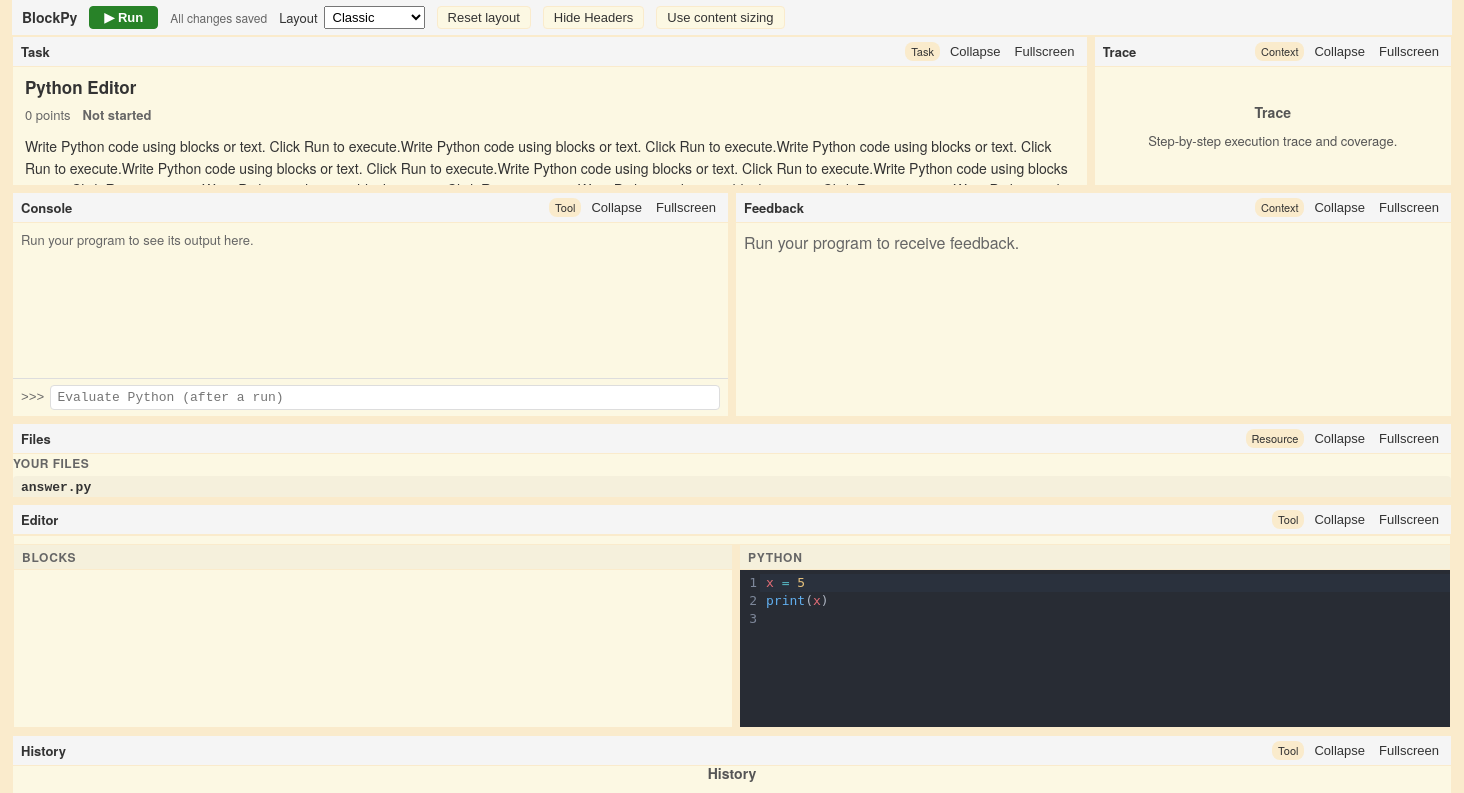
Test case: WorkspaceShell › resets the layout to defaults
Select "Quiz" in the dropdown labelled "Layout" at (374, 18), box x1=324 y1=6 x2=425 y2=29
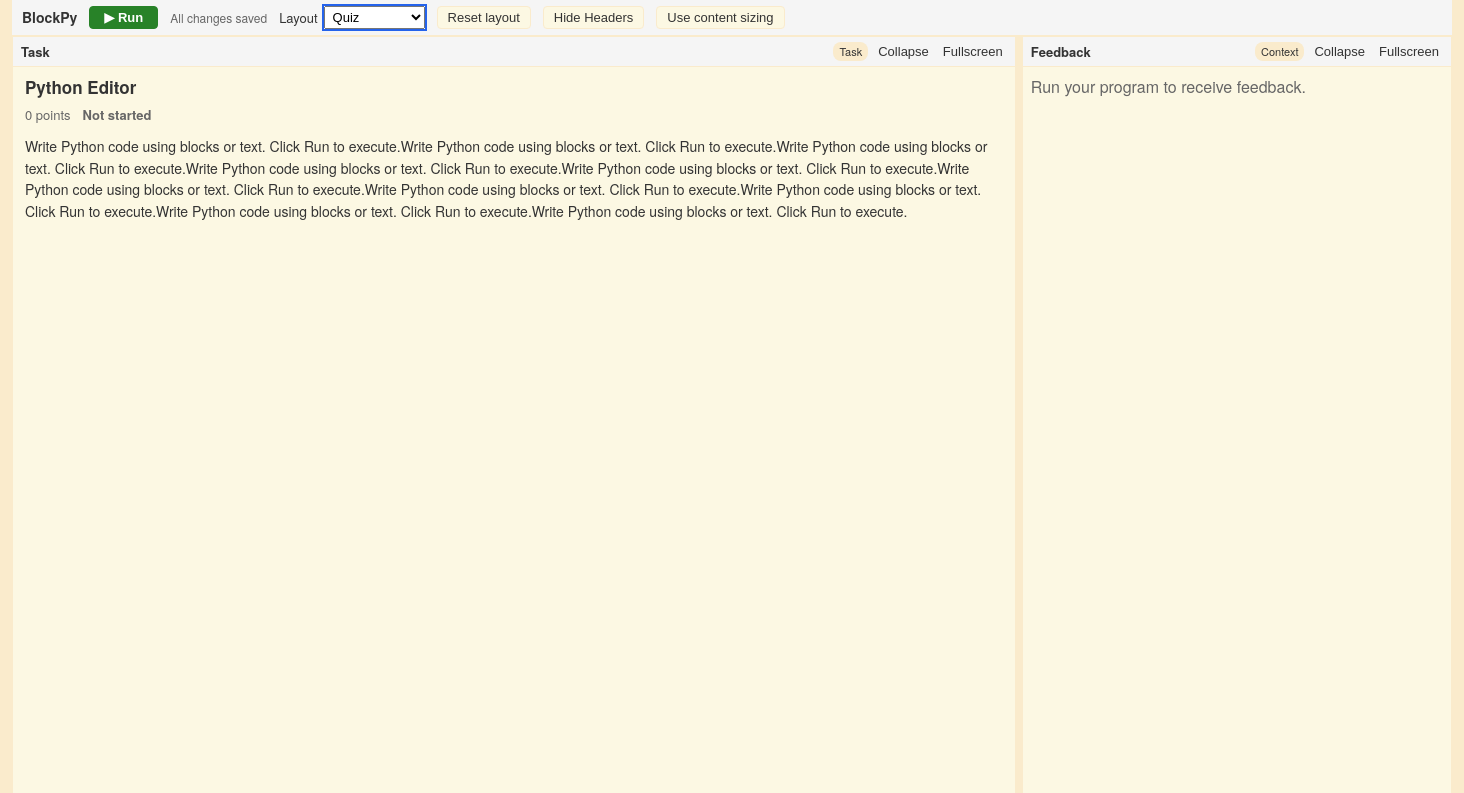
Click the button "Reset layout".
click(484, 18)  # box x1=437 y1=6 x2=531 y2=29
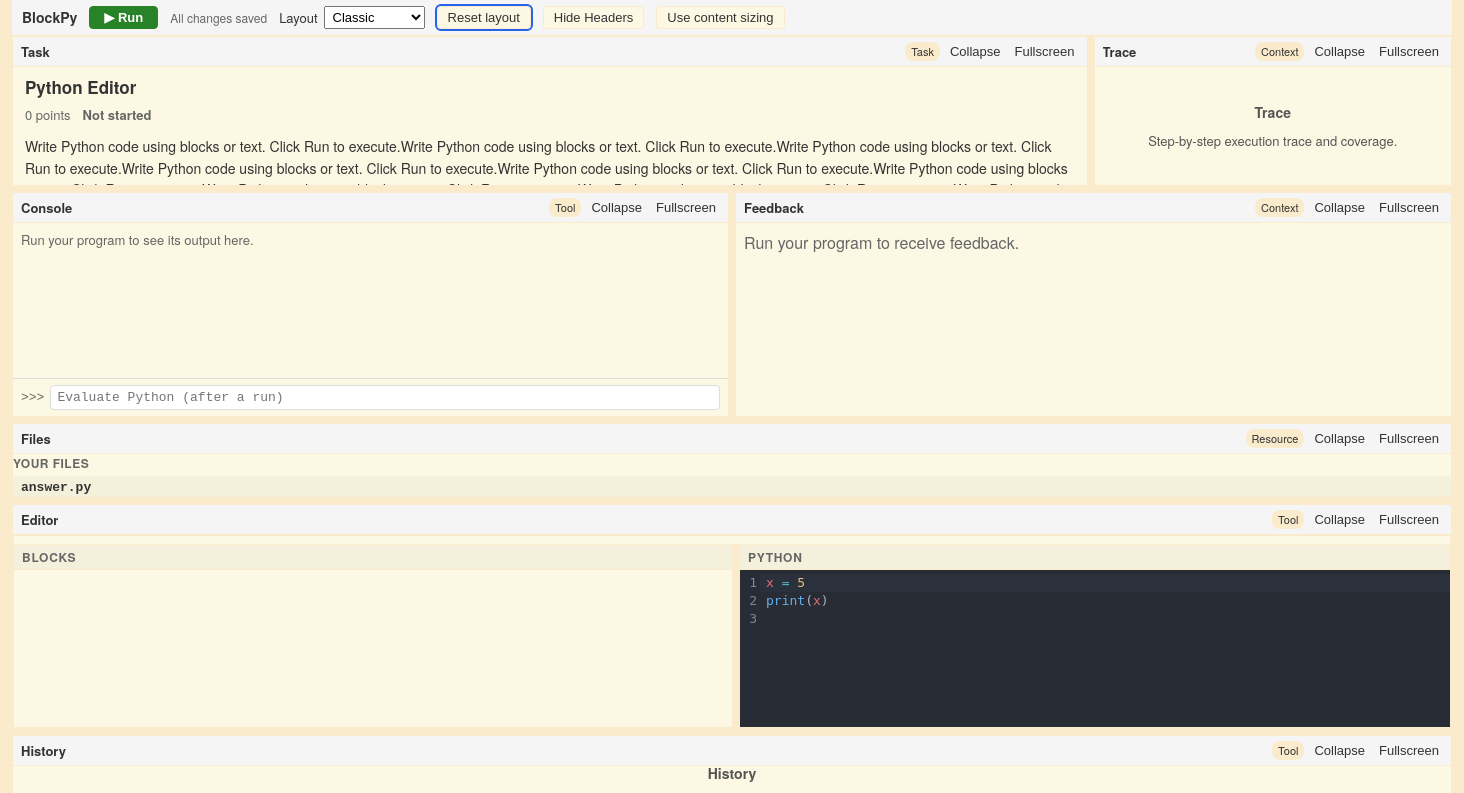
Check: the heading "Editor" is shown, box x1=21 y1=510 x2=58 y2=529
